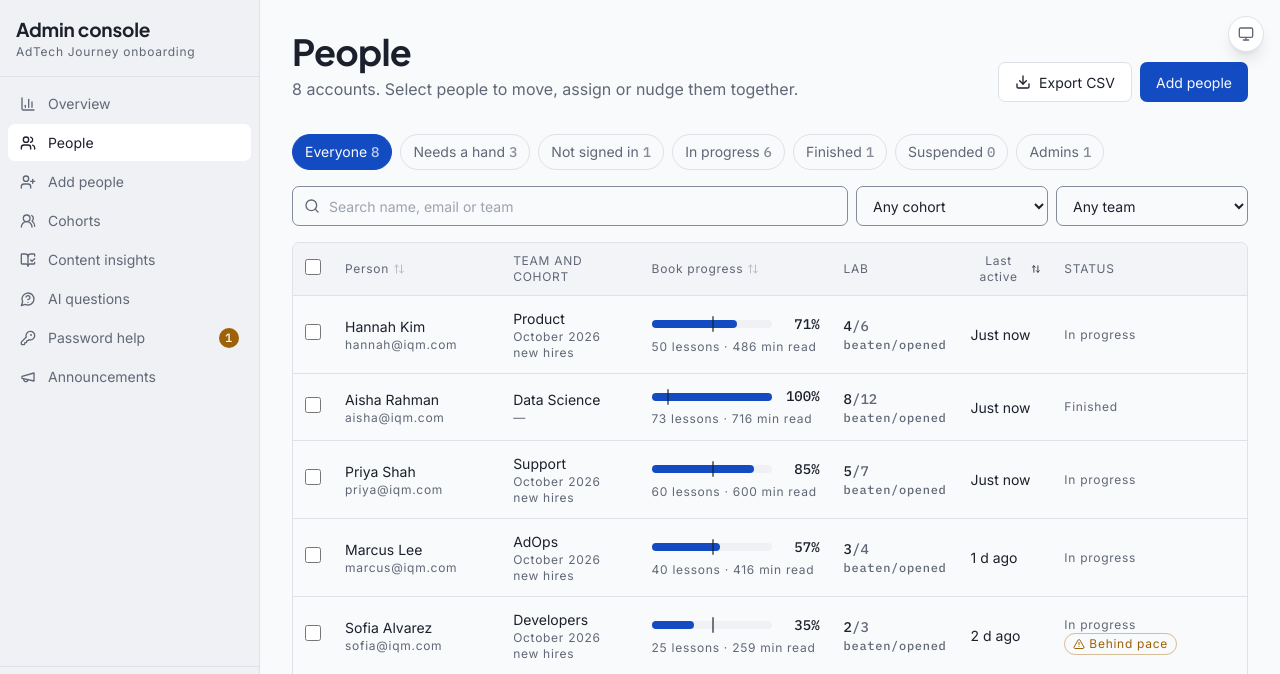
admin console › filters people and opens a person
This screenshot has width=1280, height=674.
Expected: the heading "People" is shown, x1=292 y1=29 x2=411 y2=74
Step 1. Type "marcus" into the field with placeholder "Search name, email or team" → coordinates (570, 206), box x1=292 y1=186 x2=848 y2=226
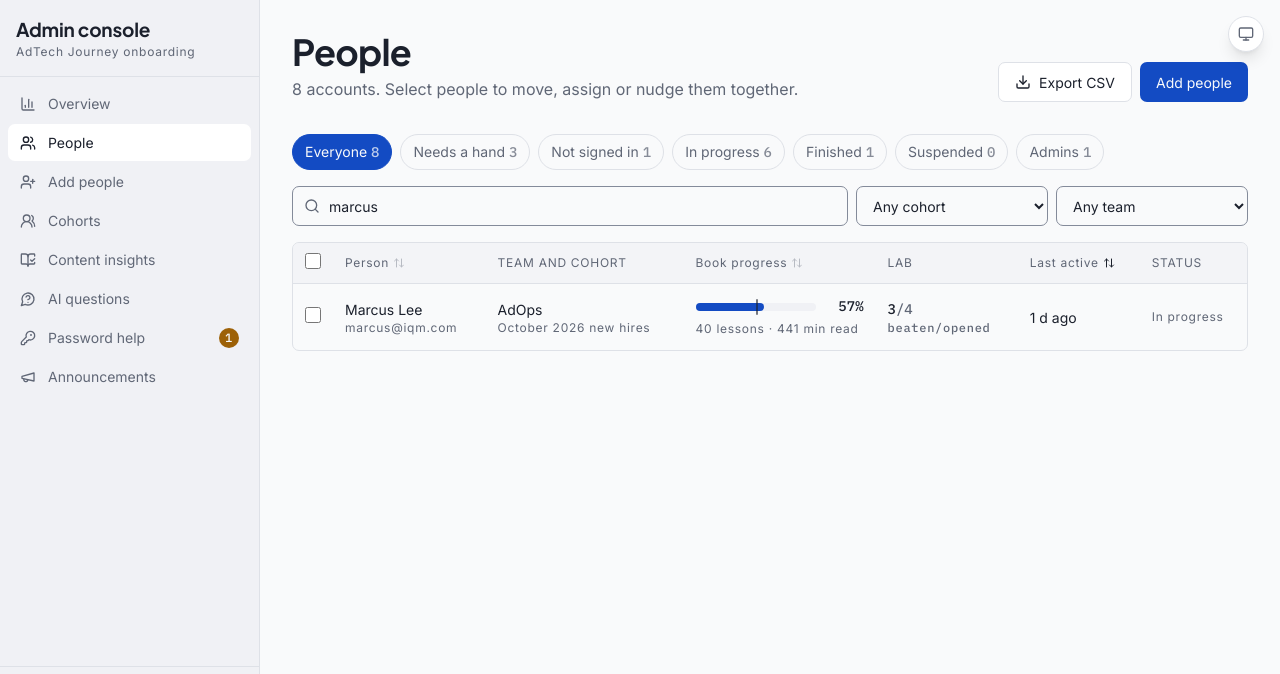
Expected: the link "Priya Shah" is gone
Step 2. Click the link "Marcus Lee" → coordinates (384, 309), box x1=345 y1=300 x2=422 y2=318
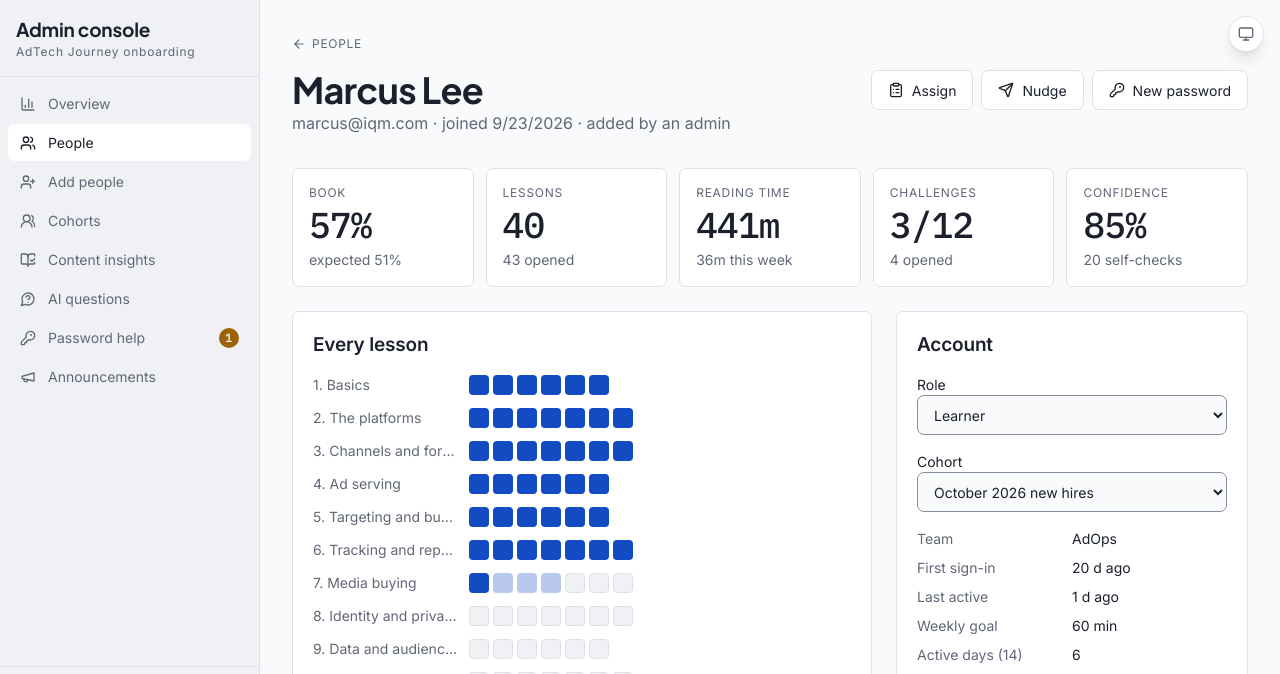
Expected: the heading "Marcus Lee" is shown, x1=292 y1=67 x2=483 y2=112
Expected: the heading "Every lesson" is shown, x1=313 y1=332 x2=428 y2=358
